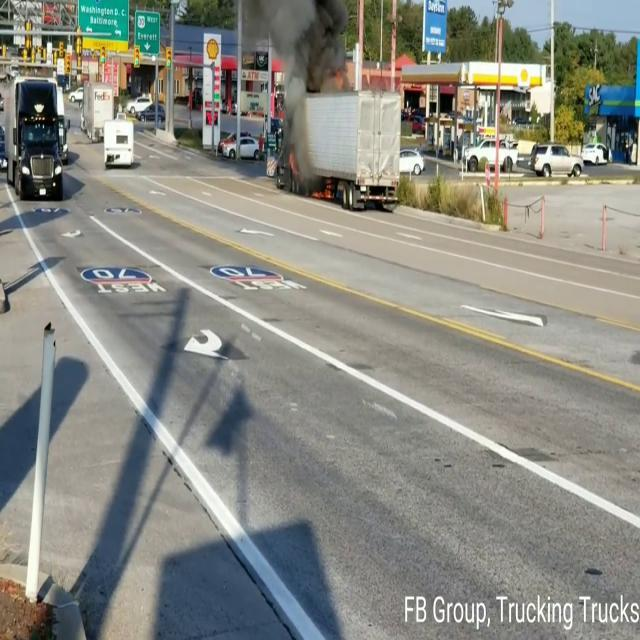Smoke: (244, 0, 366, 120)
